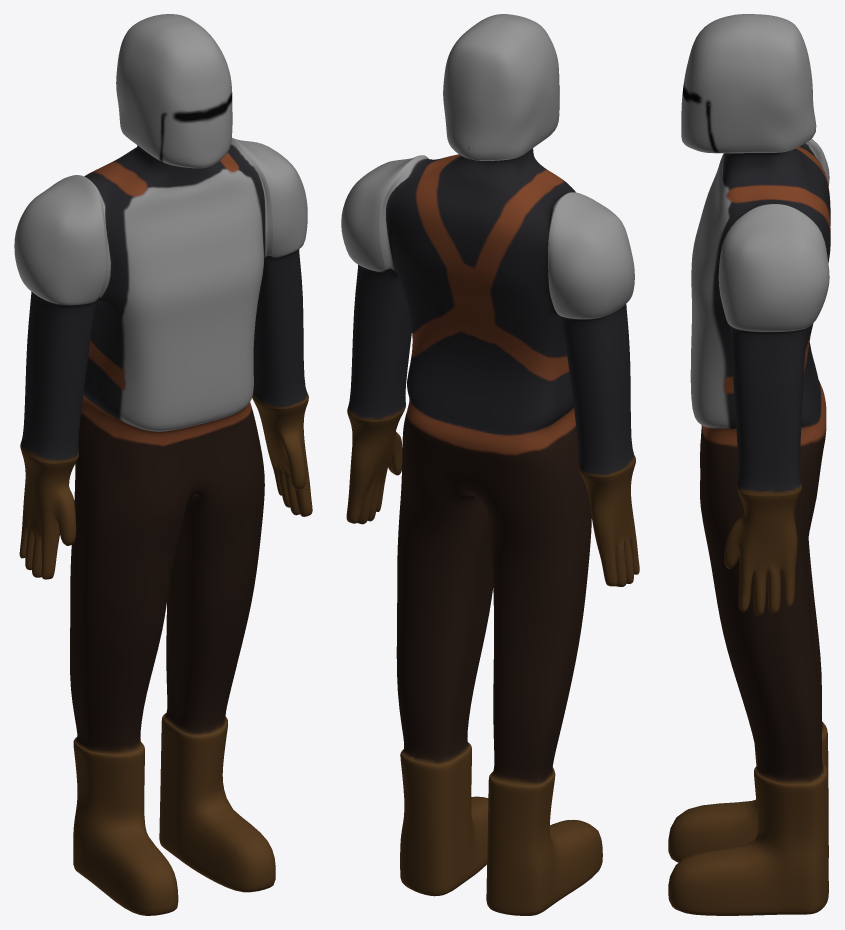
Rendered from knight.glb.
3 renders of one model, left to right at view 1: azimuth 30°, elevation 25°; view 2: azimuth 150°, elevation 25°; view 3: azimuth 270°, elevation 25°, orthographic.
Visible parts, largest first — view 1: Cube; view 2: Cube; view 3: Cube.
Part boxes in pixels (x1,y1,x2,y2): Cube: [14, 14, 312, 915]; Cube: [341, 14, 639, 915]; Cube: [668, 14, 830, 915].
Size of the model in its own units: 1.02 by 3 by 0.511.
1 material, 1 textured.
